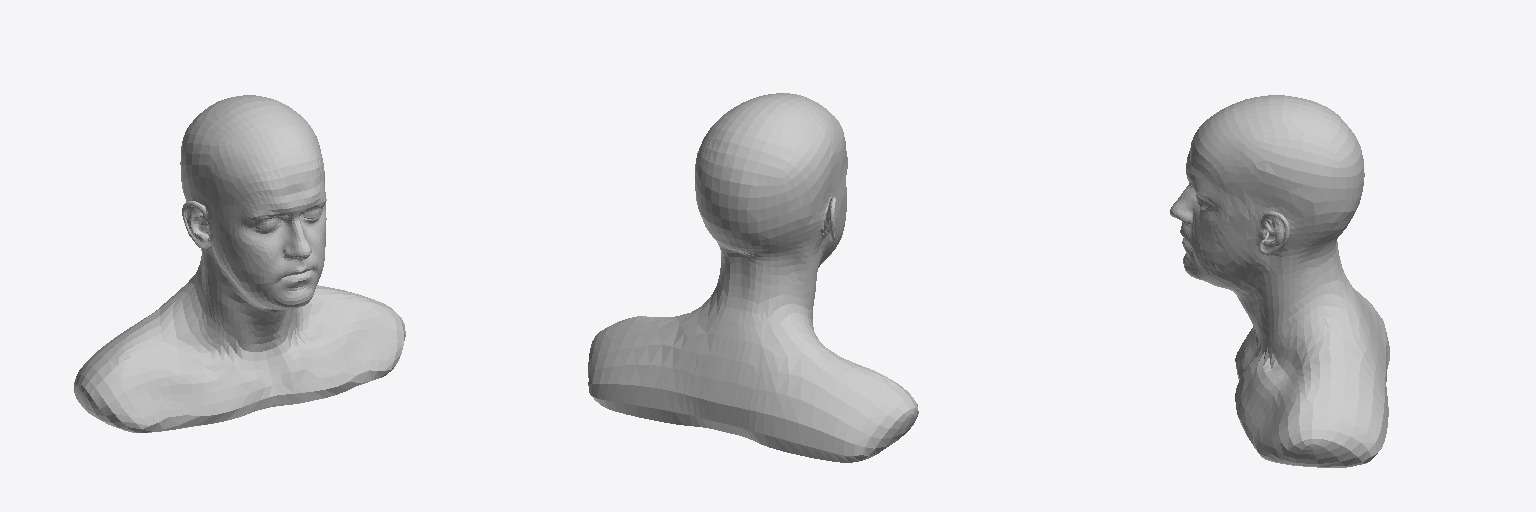
File: head.OBJ
The picture shows the model from 3 angles: view 1: azimuth 30°, elevation 25°; view 2: azimuth 150°, elevation 25°; view 3: azimuth 270°, elevation 25°; orthographic projection.
Size of the model in its own units: 2.41 by 2.24 by 1.46.